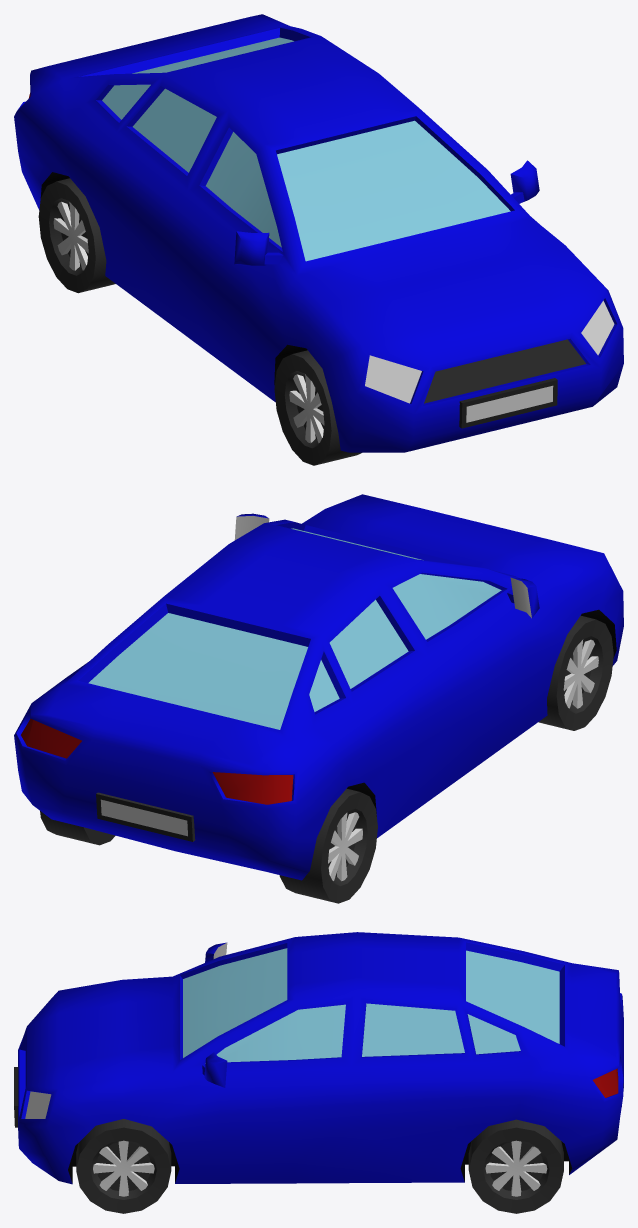
Rendered from blue.gltf.
3 renders of one model, top to bottom at view 1: azimuth 30°, elevation 25°; view 2: azimuth 150°, elevation 25°; view 3: azimuth 270°, elevation 25°, orthographic. The views are drawn at different scales.
Parts seen in each view (by area): view 1: Car_Sedan; view 2: Car_Sedan; view 3: Car_Sedan.
Part boxes in pixels (box(x1,y1,x2,y2)): Car_Sedan: box(14, 14, 623, 465); Car_Sedan: box(14, 494, 623, 903); Car_Sedan: box(14, 932, 623, 1213).
Bounding box in the file's own units: 1.78 × 1.32 × 3.77.
